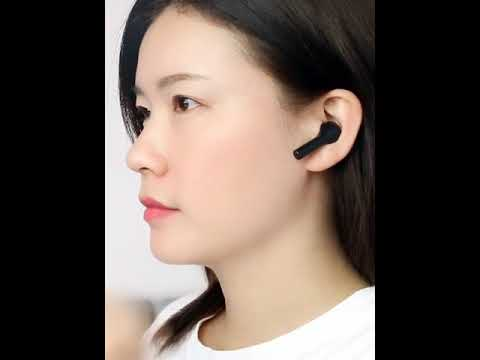earphone: (293, 89, 363, 172)
